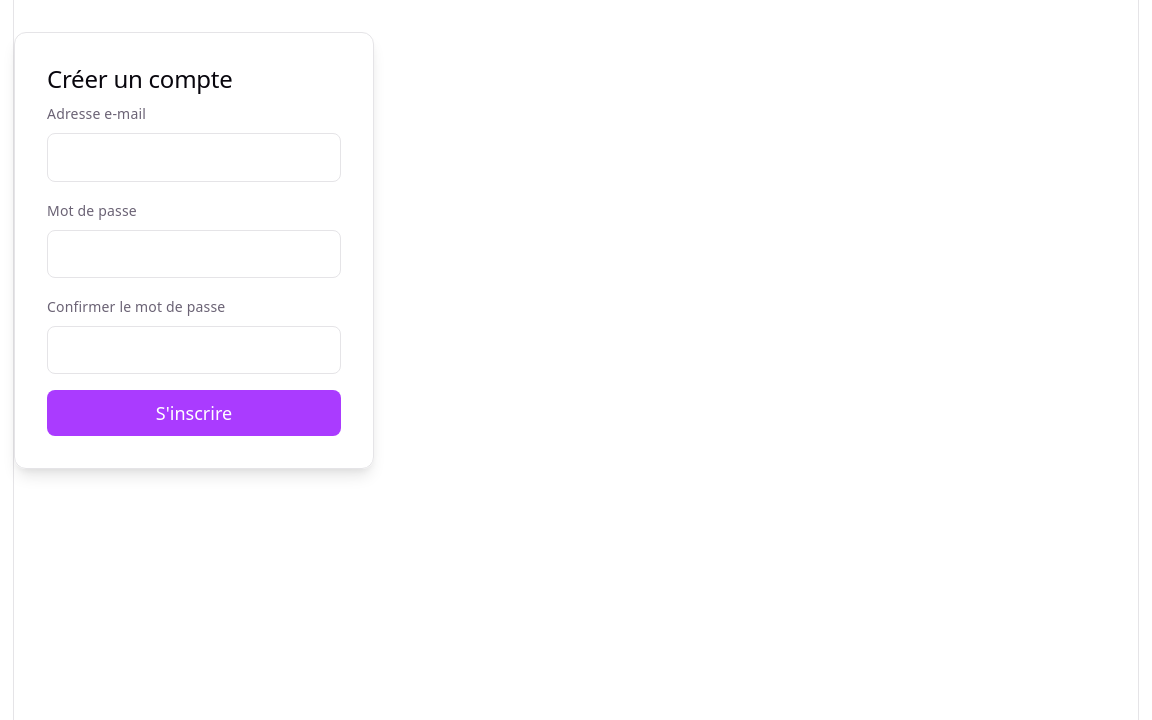
Test case: SignupForm › affiche une erreur si l'email est déjà pris
Step 1. Type "existing@kanso.test" into the field labelled "Adresse e-mail" → (194, 157), box [47, 133, 341, 182]
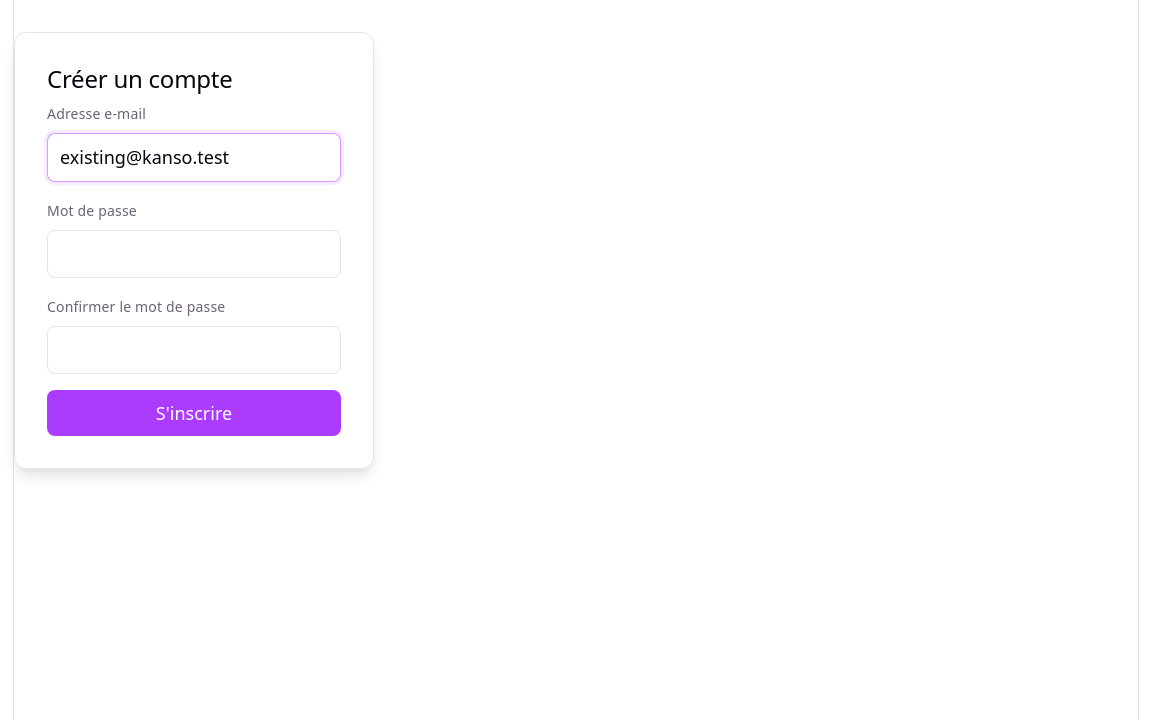
Step 2. Type "motdepasse123" into the password field labelled "Mot de passe" → (194, 254), box [47, 230, 341, 278]
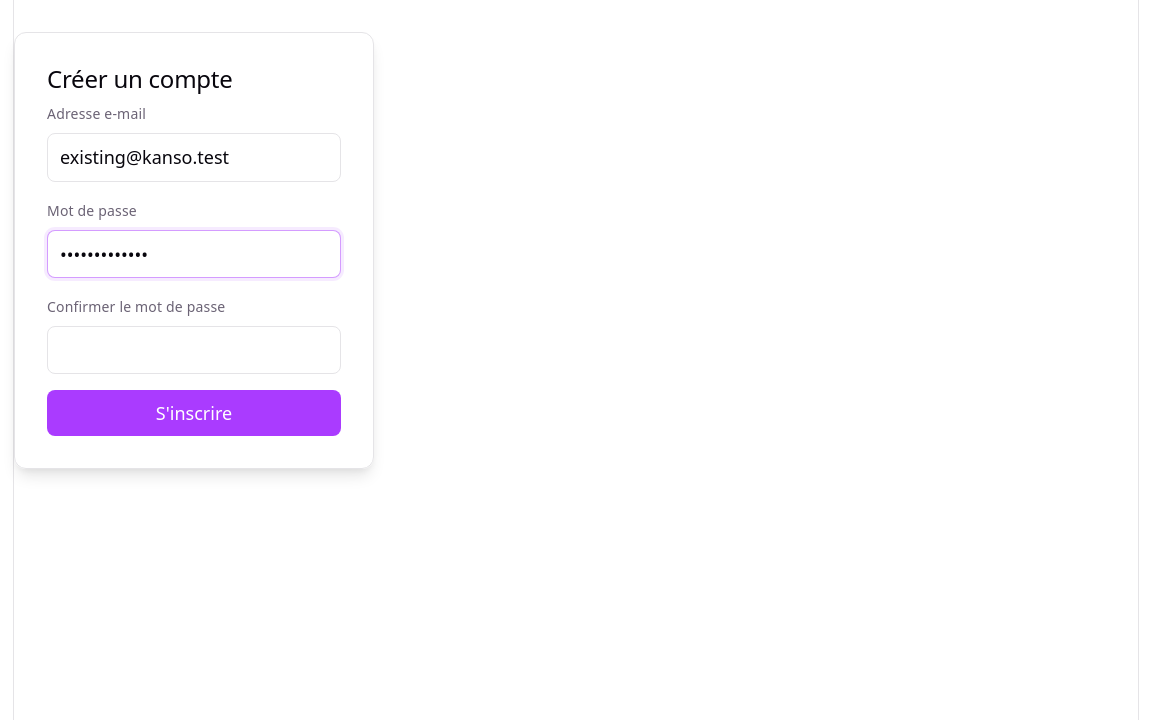
Step 3. Type "motdepasse123" into the password field labelled "Confirmer le mot de passe" → (194, 350), box [47, 326, 341, 374]
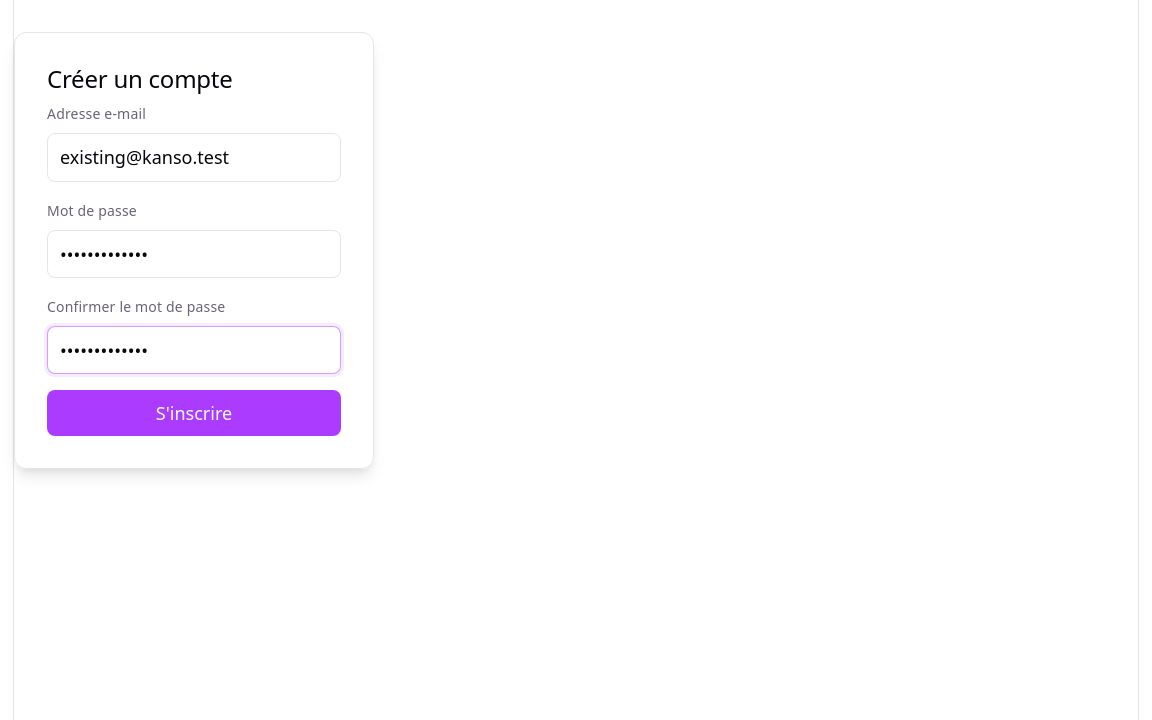
Step 4. Click the button "S'inscrire" → (194, 413), box [47, 390, 341, 436]
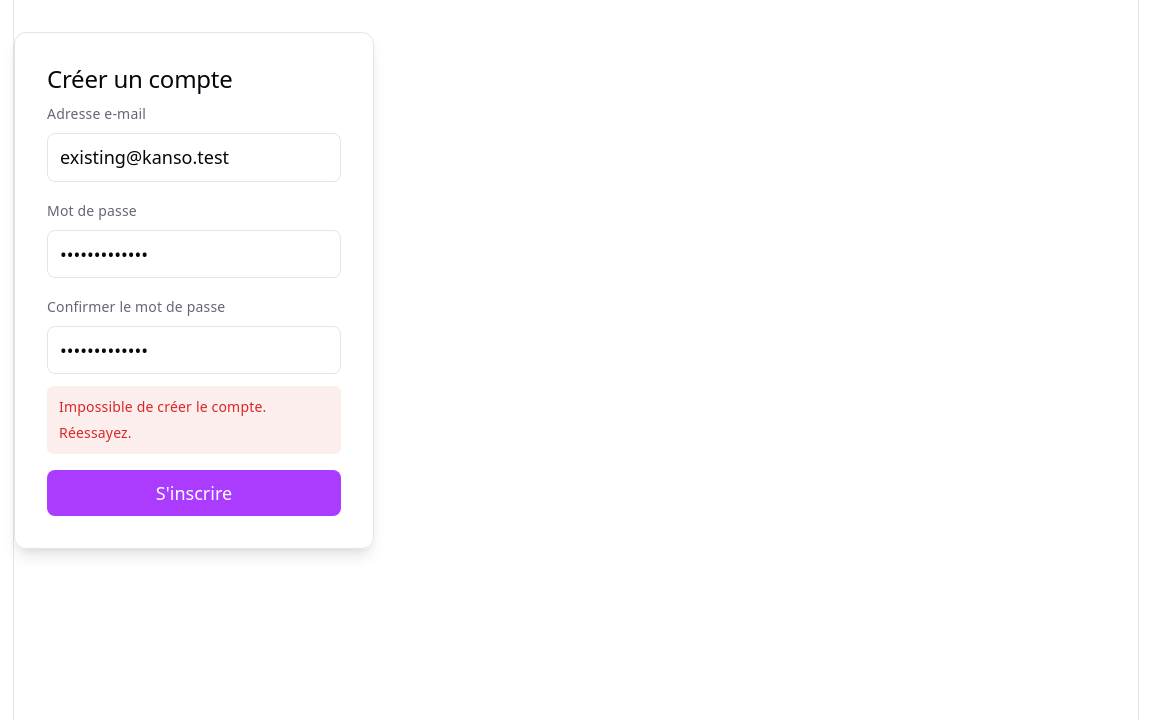
Expected: the text "Impossible de créer le compte. Réessayez." is shown, [59, 397, 266, 442]
